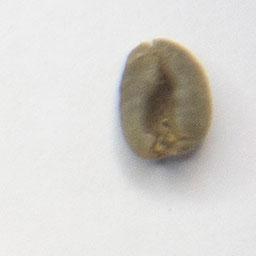peaberry: (114, 35, 216, 166)
